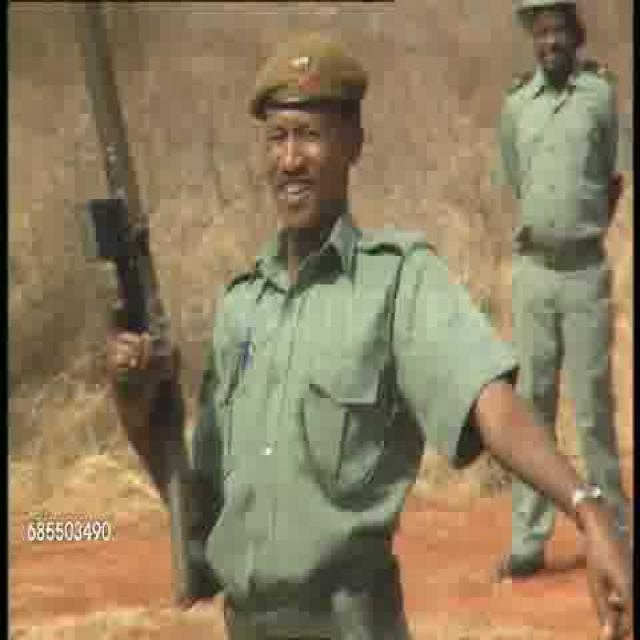poacher: (200, 13, 444, 632), (490, 1, 640, 508)
weapon: (53, 3, 208, 601)
